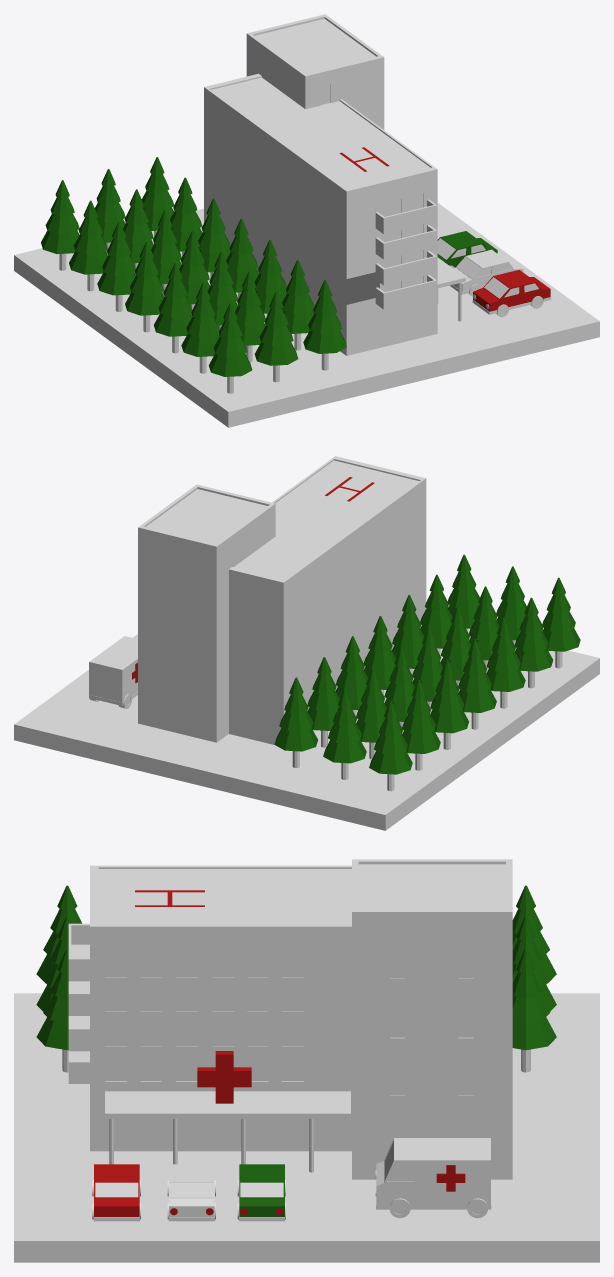
The model's file is hospital.fbx.
The picture shows the model from 3 angles, top to bottom: view 1: azimuth 30°, elevation 25°; view 2: azimuth 150°, elevation 25°; view 3: azimuth 270°, elevation 25°; orthographic projection. The views are drawn at different scales.
Parts seen in each view (by area): view 1: Cube.012, Cube, Cube.039, Cylinder.042, Cylinder.004, Cylinder.003, Cylinder.027, Cylinder.036, Cylinder.046, Cylinder.034, Cylinder.002, Cylinder.026 (+14 smaller); view 2: Cube.012, Cube, Cube.025, Cylinder.044, Cylinder.045, Cylinder.046, Cylinder.026, Cylinder.034, Cylinder.036, Cylinder.027, Cylinder.004, Cylinder.002 (+12 smaller); view 3: Cube.012, Cube, Cube.025, Cylinder.044, Cube.039, Cube.041, Cube.040, Cylinder.042, Cube.001, Cylinder.045, Cylinder.046, Cylinder.004 (+1 smaller).
Part boxes in pixels (x1=…): Cube.012: x1=204, y1=14, x2=465, y2=355; Cube: x1=14, y1=203, x2=599, y2=427; Cube.039: x1=472, y1=270, x2=551, y2=317; Cylinder.042: x1=303, y1=280, x2=346, y2=370; Cylinder.004: x1=208, y1=303, x2=252, y2=393; Cylinder.003: x1=254, y1=291, x2=298, y2=382; Cylinder.027: x1=125, y1=241, x2=163, y2=332; Cylinder.036: x1=69, y1=200, x2=107, y2=291; Cylinder.046: x1=41, y1=180, x2=79, y2=270; Cylinder.034: x1=97, y1=221, x2=135, y2=311; Cylinder.002: x1=181, y1=283, x2=219, y2=373; Cylinder.026: x1=154, y1=262, x2=192, y2=353; Cube.012: x1=138, y1=456, x2=426, y2=744; Cube: x1=14, y1=628, x2=599, y2=830; Cube.025: x1=89, y1=636, x2=137, y2=708; Cylinder.044: x1=274, y1=677, x2=317, y2=767; Cylinder.045: x1=323, y1=689, x2=366, y2=779; Cylinder.046: x1=369, y1=700, x2=412, y2=791; Cylinder.026: x1=486, y1=618, x2=525, y2=708; Cylinder.034: x1=430, y1=659, x2=469, y2=749; Cylinder.036: x1=402, y1=680, x2=440, y2=770; Cylinder.027: x1=458, y1=639, x2=496, y2=729; Cylinder.004: x1=542, y1=577, x2=580, y2=668; Cylinder.002: x1=515, y1=597, x2=553, y2=688; Cube.012: x1=68, y1=859, x2=512, y2=1179; Cube: x1=14, y1=993, x2=599, y2=1262; Cube.025: x1=375, y1=1138, x2=491, y2=1218; Cylinder.044: x1=512, y1=948, x2=556, y2=1072; Cube.039: x1=92, y1=1164, x2=140, y2=1221; Cube.041: x1=167, y1=1164, x2=215, y2=1221; Cube.040: x1=237, y1=1164, x2=285, y2=1221; Cylinder.042: x1=36, y1=948, x2=68, y2=1072; Cube.001: x1=197, y1=1051, x2=251, y2=1103; Cylinder.045: x1=512, y1=916, x2=556, y2=1011; Cylinder.046: x1=512, y1=885, x2=556, y2=983; Cylinder.004: x1=36, y1=885, x2=81, y2=983.
Size of the model in its own units: 1818 by 991 by 1818.
